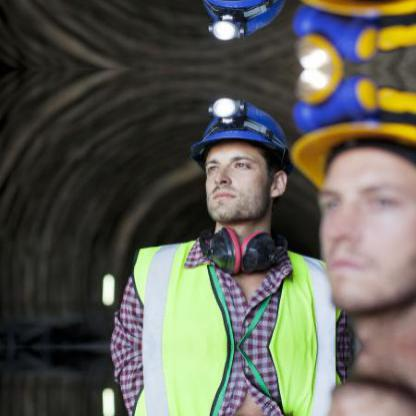helmet: (293, 81, 414, 318), (183, 105, 287, 234), (292, 0, 414, 56), (183, 0, 288, 32)
person: (125, 100, 329, 345), (125, 347, 330, 414)
